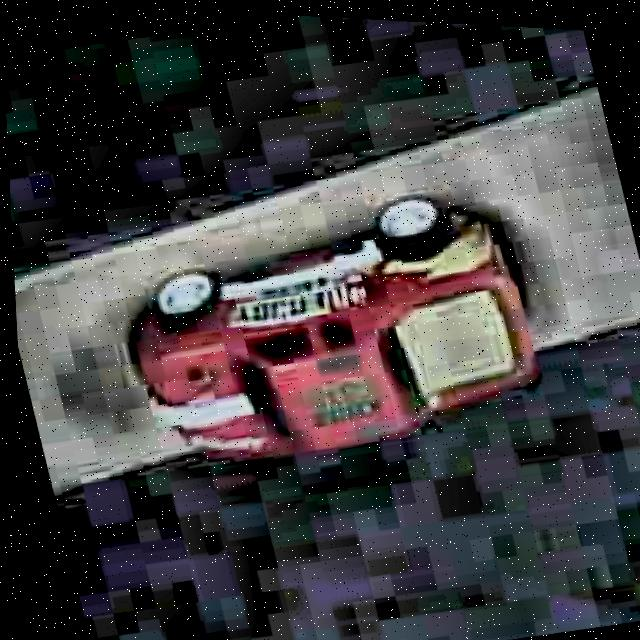car: (93, 159, 565, 502)
